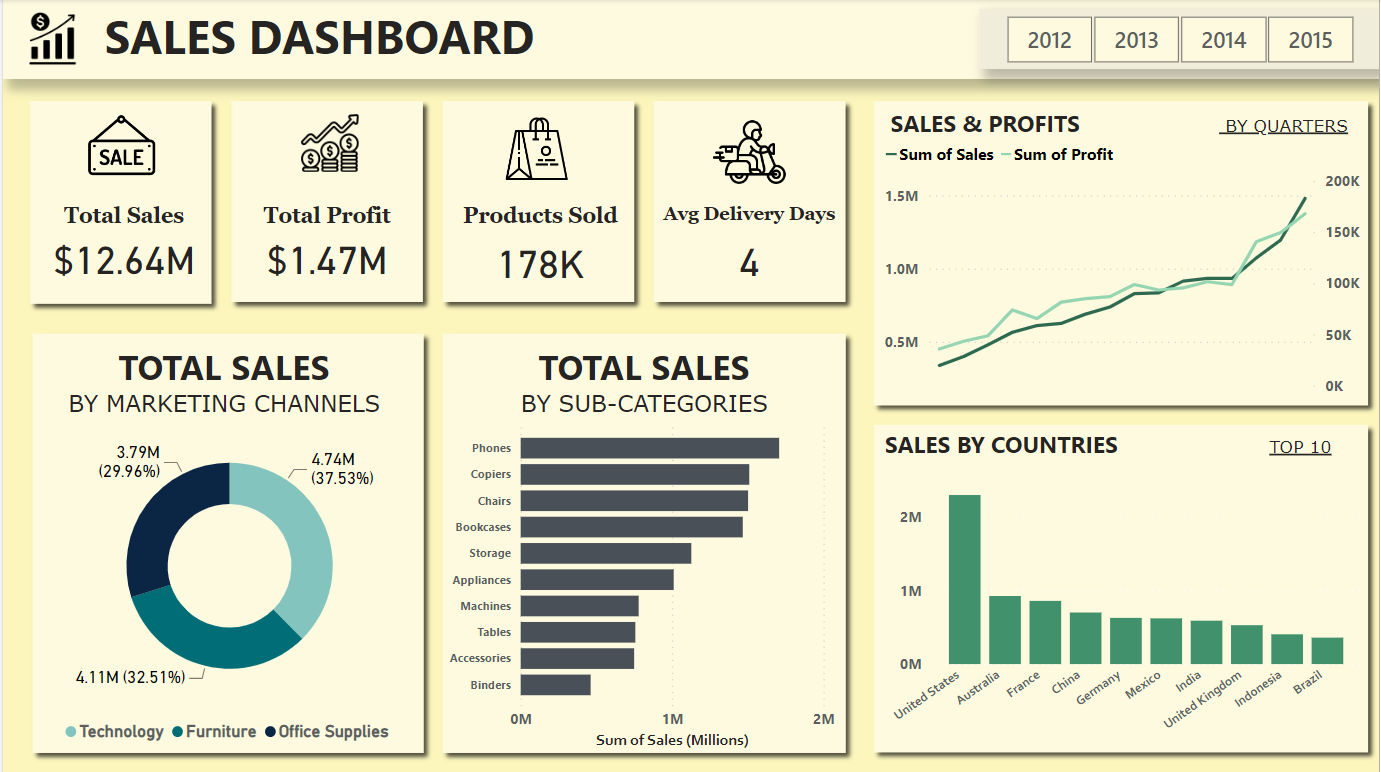

The page's visual inventory and layout, read from the dashboard file:
{"tool":"powerbi","page":{"name":"Page 1","canvas":[1280,720],"ordinal":0},"visuals":[{"type":"textbox","box":[0,0,1280.3,74.1],"z":0},{"type":"shape","box":[801.2,86,477.9,301.2],"z":0,"group":"g7"},{"type":"shape","box":[16.7,86.4,186.7,206.2],"z":0,"group":"g1"},{"type":"shape","box":[18.1,302.3,381.7,408.2],"z":0,"group":"g5"},{"type":"shape","box":[400,302.3,392.9,408.2],"z":0,"group":"g6"},{"type":"card","title":"Total Sales","fields":{"Values":["All Measures.Total Sales"]},"box":[32.4,190.4,160.2,78],"z":1000,"group":"g1"},{"type":"shape","box":[801.2,387.2,477.9,322.1],"z":1000},{"type":"slicer","fields":{"Values":["Orders.Years"]},"box":[908.4,9.6,371.9,56.3],"z":2000},{"type":"image","box":[39,100.4,143.5,72.4],"z":2000,"group":"g1"},{"type":"image","box":[16.5,0,59,74.1],"z":3000},{"type":"shape","box":[203.4,86.4,196.2,204.5],"z":3000,"group":"g2"},{"type":"shape","box":[399.8,86.4,196.2,204.5],"z":3000,"group":"g3"},{"type":"shape","box":[596.3,86.4,196.2,204.5],"z":3000,"group":"g4"},{"type":"group","id":"g1","title":"Group 1","box":[16.7,86.4,186.7,206.2],"z":4000},{"type":"card","title":"Products Sold","fields":{"Values":["All Measures.Quantity sold"]},"box":[420.4,189.3,157.8,85.1],"z":4000,"group":"g3"},{"type":"card","title":"Avg Delivery Days","fields":{"Values":["Avg(Orders.Avg Del Days)"]},"box":[605.6,189.9,176.9,85],"z":4000,"group":"g4"},{"type":"card","title":"Total Profit","fields":{"Values":["All Measures.Total Profit"]},"box":[218.2,190.4,165.8,78],"z":4000,"group":"g2"},{"type":"group","id":"g2","title":"Group 2","box":[203.4,86.4,196.2,204.5],"z":5000},{"type":"group","id":"g3","title":"Group 2","box":[399.8,86.4,196.4,204.8],"z":6000},{"type":"image","box":[247.3,102.9,112.5,63.1],"z":6000,"group":"g2"},{"type":"image","box":[436,103.1,121.2,71],"z":7000},{"type":"group","id":"g4","title":"Group 2","box":[596.3,86.4,196.4,204.8],"z":8000},{"type":"image","box":[650.6,103.1,86.4,80.8],"z":9000},{"type":"group","id":"g5","title":"Group 1","box":[18.1,302.3,381.7,408.2],"z":10000},{"type":"donutChart","fields":{"Y":["Sum(Orders.Sales)"],"Category":["Orders.Category"]},"box":[39,387,342,313.5],"z":11000},{"type":"textbox","box":[30.6,314.8,351.1,87.8],"z":12000},{"type":"group","id":"g6","title":"Group 1","box":[400,302.3,392.9,408.2],"z":13000},{"type":"clusteredBarChart","fields":{"Category":["Orders.Sub-Category"],"Y":["Sum(Orders.Sales)"]},"box":[410.5,387.2,372.1,314],"z":14000},{"type":"textbox","box":[410.5,315.1,372.1,87.2],"z":15000},{"type":"group","id":"g7","title":"Group 1","box":[801.2,86,477.9,301.2],"z":16000},{"type":"lineChart","fields":{"Y":["Sum(Orders.Sales)"],"Y2":["Sum(Orders.Profit)"],"Category":["Orders.Quarter"]},"box":[815.1,123.3,452.3,251.2],"z":17000},{"type":"textbox","box":[815.1,95.3,452.3,39.5],"z":18000},{"type":"clusteredColumnChart","fields":{"Category":["Orders.Country"],"Y":["Sum(Orders.Sales)"]},"box":[815.1,433.7,452.3,265.1],"z":19000},{"type":"textbox","box":[815.1,394.2,452.3,39.5],"z":20000}]}

Visuals, with their boxes in screenshot pixels (x1, y1, x2, y2), scaled from the page's 1280x720 canvas onto the 1381x772 screenshot:
textbox: <region>0, 0, 1380, 79</region>
shape: <region>864, 92, 1380, 415</region>
shape: <region>18, 93, 219, 314</region>
shape: <region>20, 324, 431, 762</region>
shape: <region>432, 324, 855, 762</region>
"Total Sales" card: <region>35, 204, 208, 288</region>
shape: <region>864, 415, 1380, 761</region>
slicer - Orders.Years: <region>980, 10, 1380, 71</region>
image: <region>42, 108, 197, 185</region>
image: <region>18, 0, 81, 79</region>
shape: <region>219, 93, 431, 312</region>
shape: <region>431, 93, 643, 312</region>
shape: <region>643, 93, 855, 312</region>
"Group 1" group: <region>18, 93, 219, 314</region>
"Products Sold" card: <region>454, 203, 624, 294</region>
"Avg Delivery Days" card: <region>653, 204, 844, 295</region>
"Total Profit" card: <region>235, 204, 414, 288</region>
"Group 2" group: <region>219, 93, 431, 312</region>
"Group 2" group: <region>431, 93, 643, 312</region>
image: <region>267, 110, 388, 178</region>
image: <region>470, 111, 601, 187</region>
"Group 2" group: <region>643, 93, 855, 312</region>
image: <region>702, 111, 795, 197</region>
"Group 1" group: <region>20, 324, 431, 762</region>
donutChart - Sum(Orders.Sales) x Orders.Category: <region>42, 415, 411, 751</region>
textbox: <region>33, 338, 412, 432</region>
"Group 1" group: <region>432, 324, 855, 762</region>
clusteredBarChart - Orders.Sub-Category x Sum(Orders.Sales): <region>443, 415, 844, 752</region>
textbox: <region>443, 338, 844, 431</region>
"Group 1" group: <region>864, 92, 1380, 415</region>
lineChart - Sum(Orders.Sales) x Sum(Orders.Profit): <region>879, 132, 1367, 402</region>
textbox: <region>879, 102, 1367, 145</region>
clusteredColumnChart - Orders.Country x Sum(Orders.Sales): <region>879, 465, 1367, 749</region>
textbox: <region>879, 423, 1367, 465</region>
